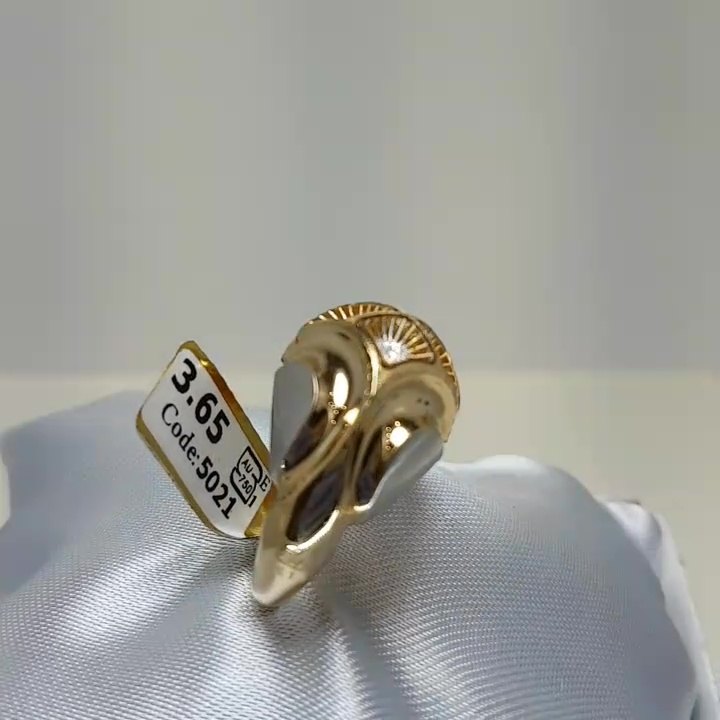Ring 2: (175, 264, 515, 630)
